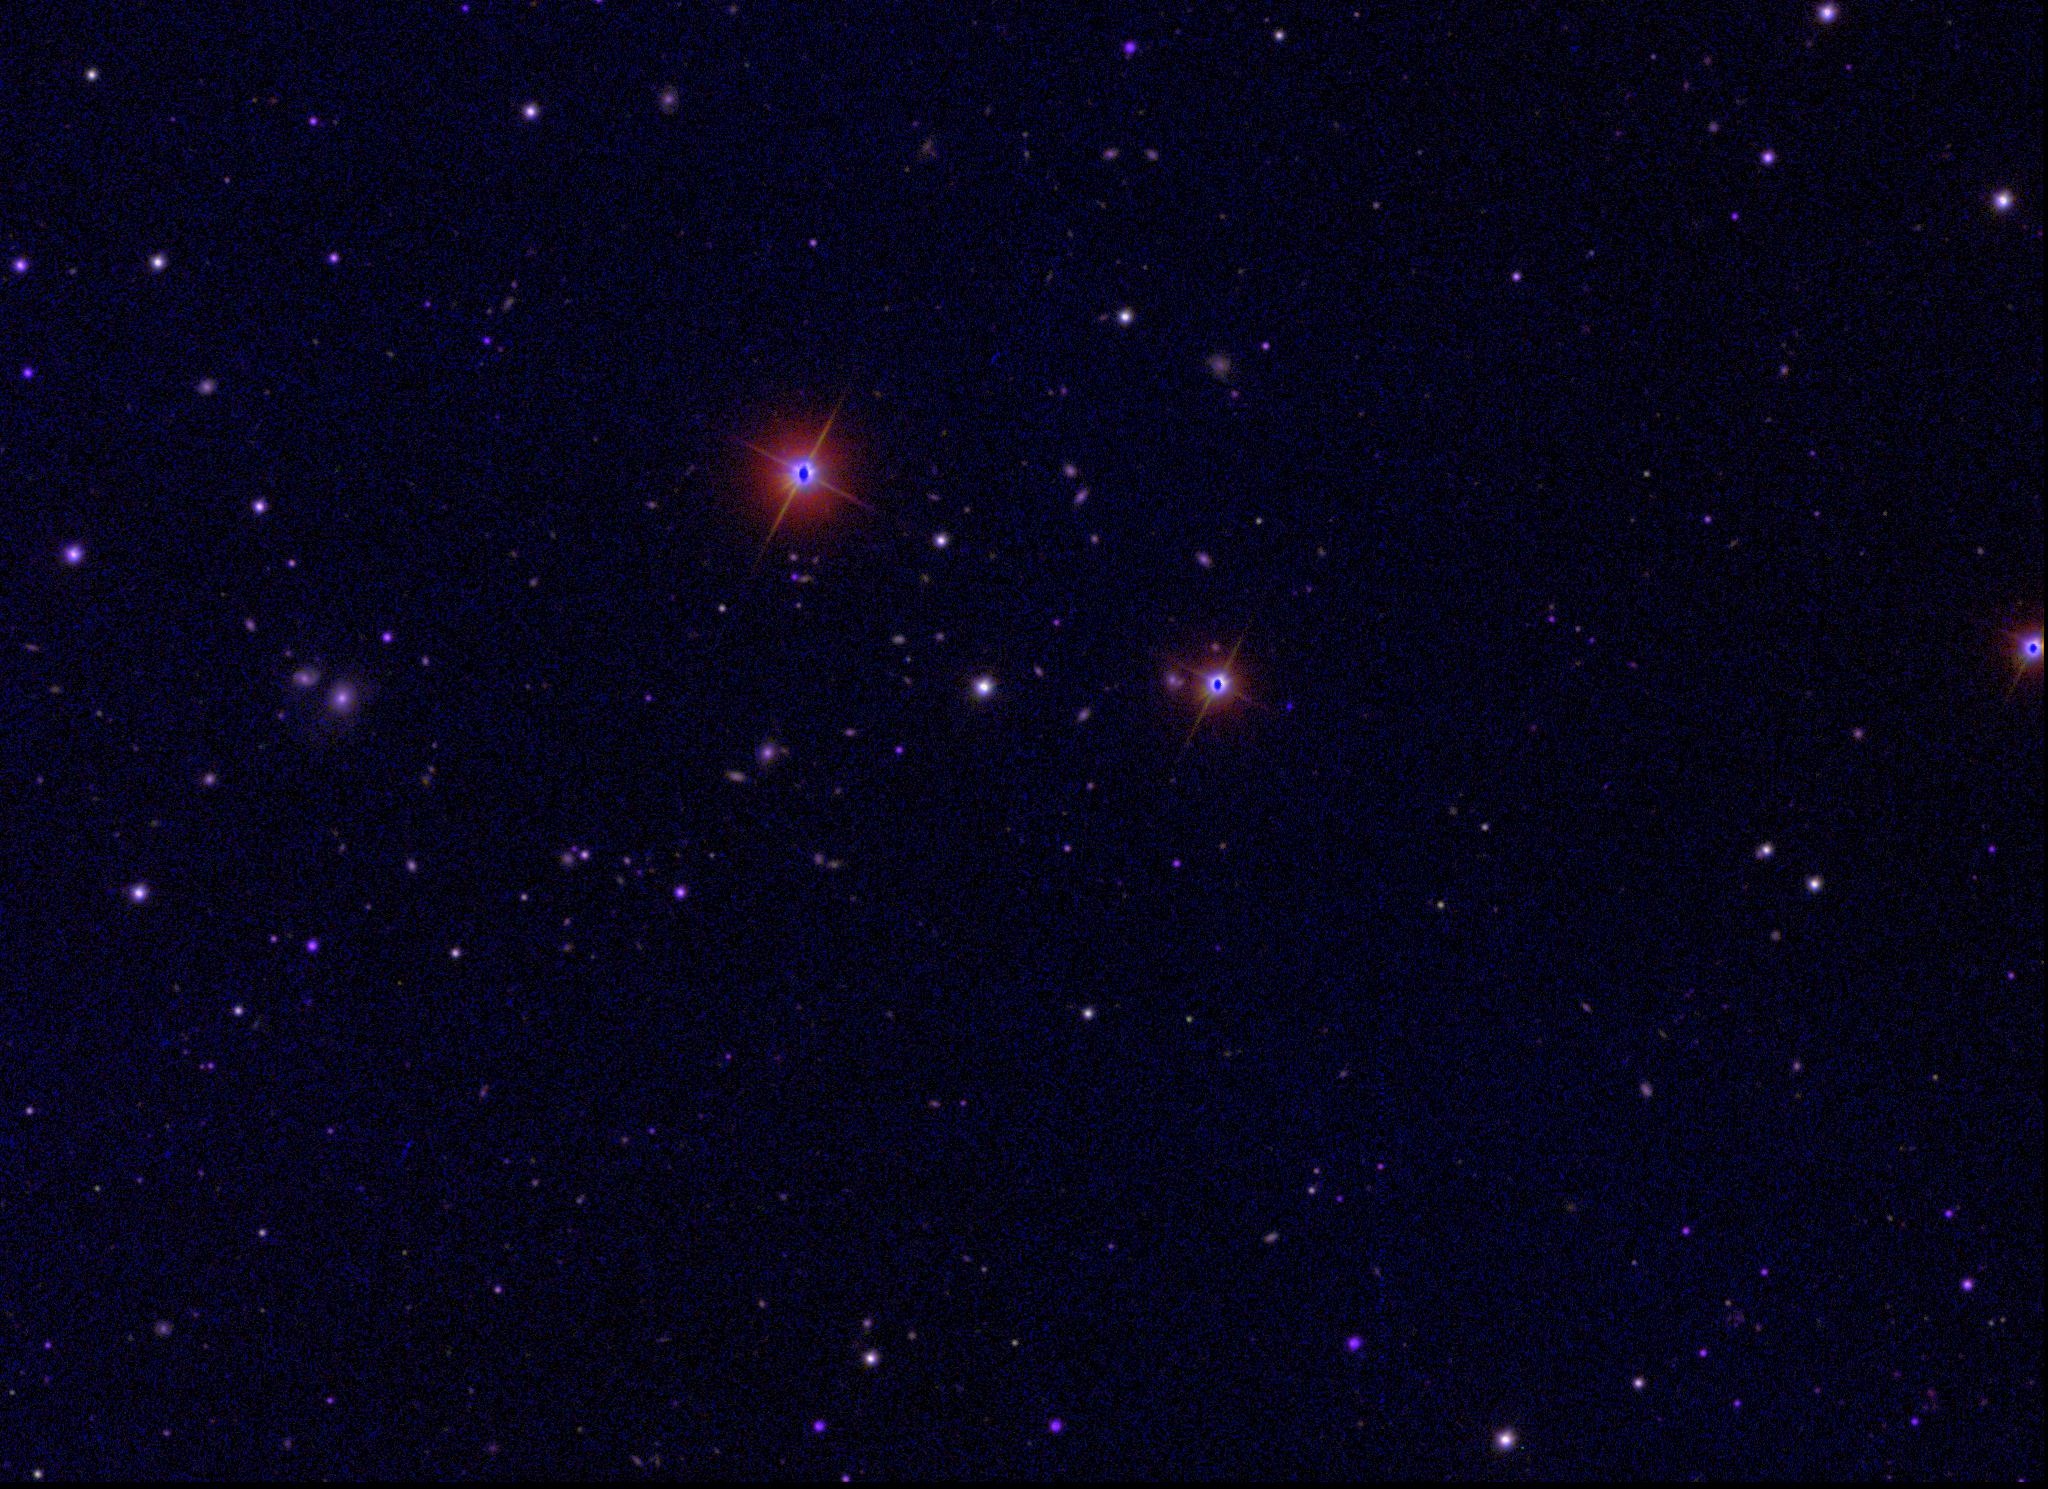L: (1280, 698, 1294, 713)
